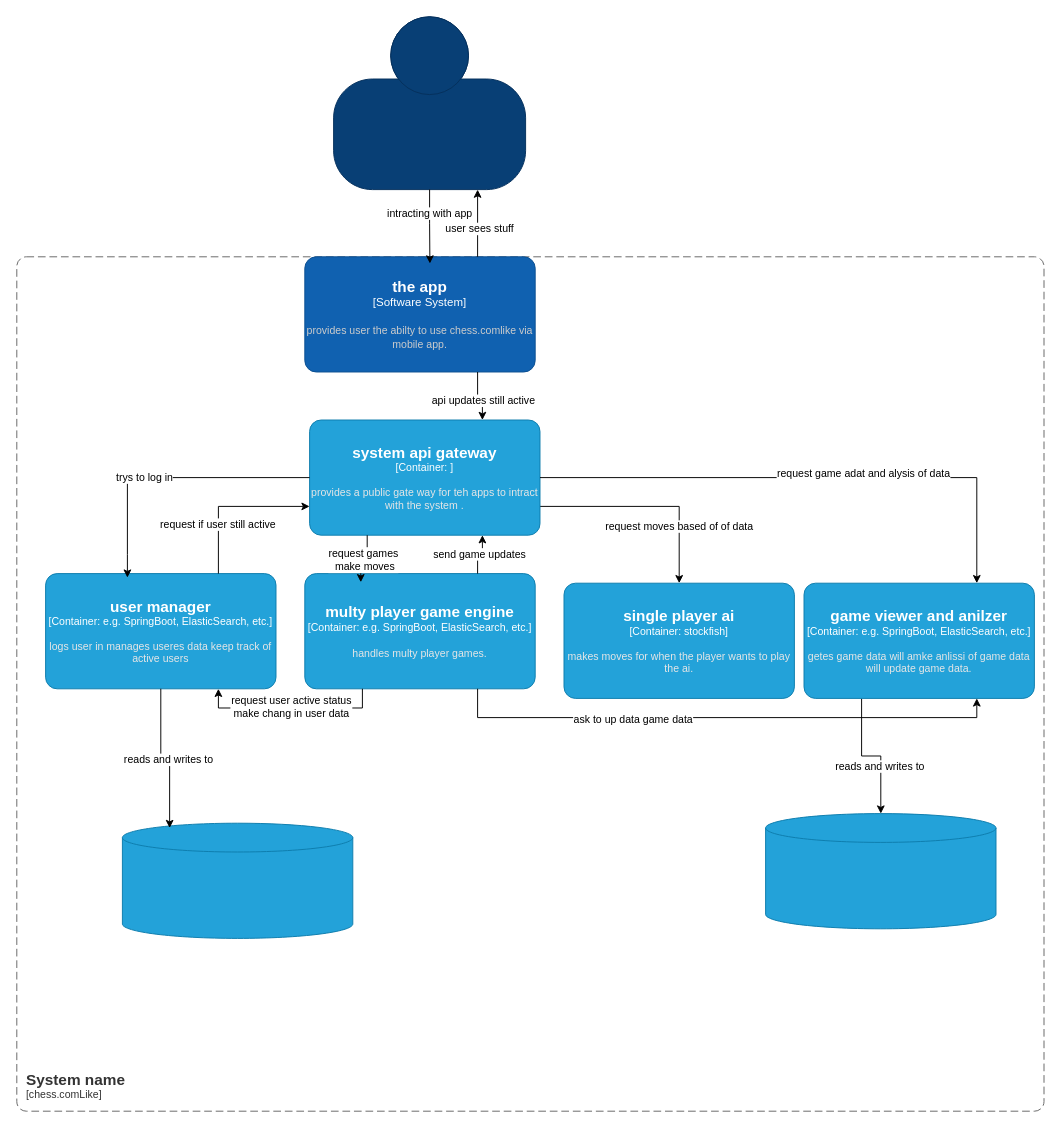
Some shapes in this 1061 by 1128 pixel diagram are drawn without their labels. Here are the shapes that lost their labels. From the top down, the centre of each, then its label:
[429,103]: chess player [Person] user that wants to play chess.
[237,880]: member datat base [Container: e.g. Oracle Database 12] contains members data.
[880,871]: game data [Container: e.g. Oracle Database 12] hold game data
